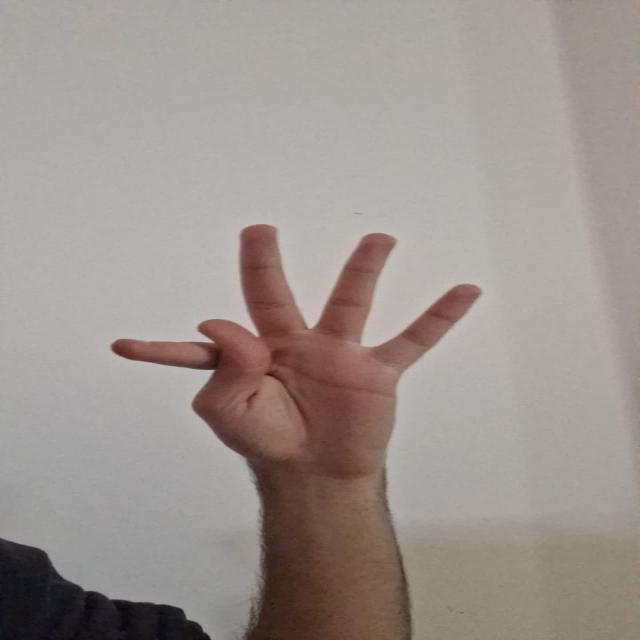T: (101, 218, 486, 467)
